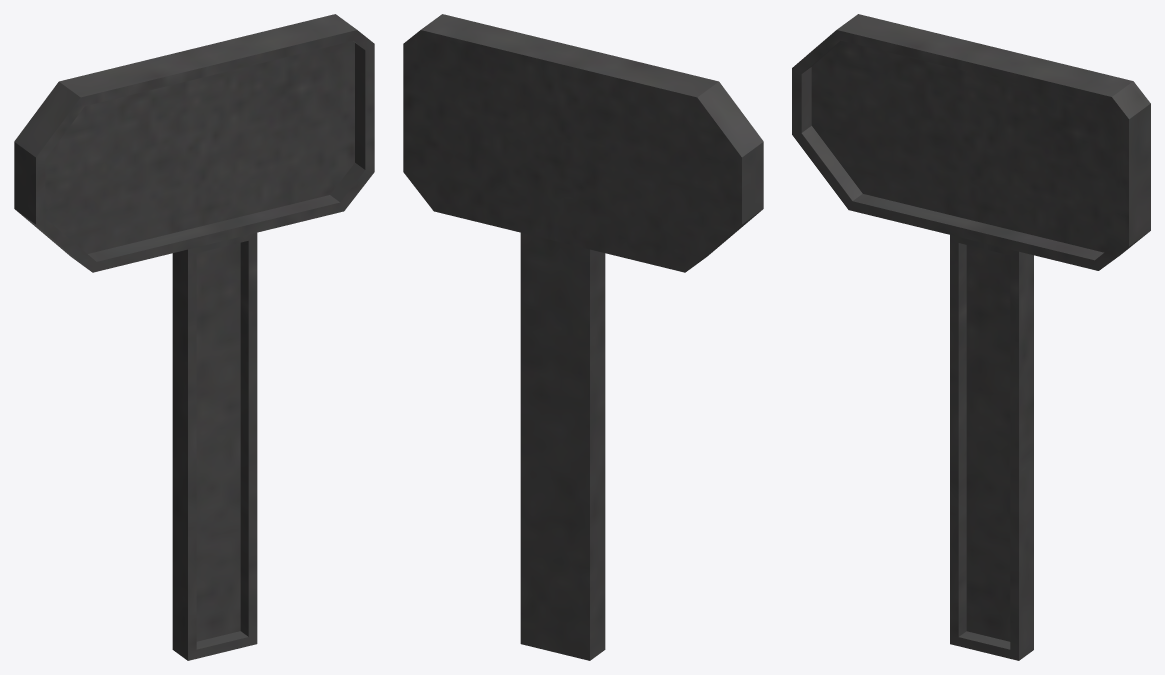
The model's file is Sign 2.fbx.
3 renders of one model, left to right at view 1: azimuth 30°, elevation 25°; view 2: azimuth 150°, elevation 25°; view 3: azimuth 330°, elevation 25°, orthographic.
Visible parts, largest first — view 1: Sign_2; view 2: Sign_2; view 3: Sign_2.
Boxes of the visible parts, x1,y1,x2,y2 form: Sign_2: [14, 14, 374, 660]; Sign_2: [403, 14, 763, 660]; Sign_2: [792, 14, 1150, 660].
Size of the model in its own units: 124 by 207 by 13.81.
Materials: 1 (1 with a texture image).
